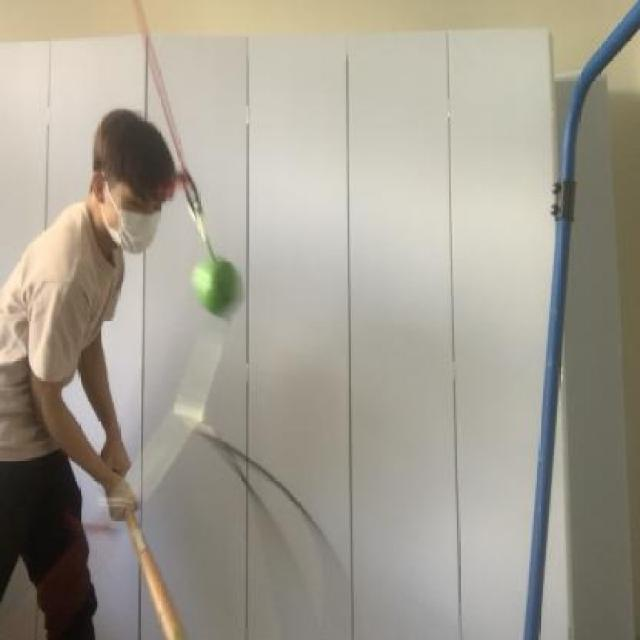baseball: (190, 249, 244, 320)
